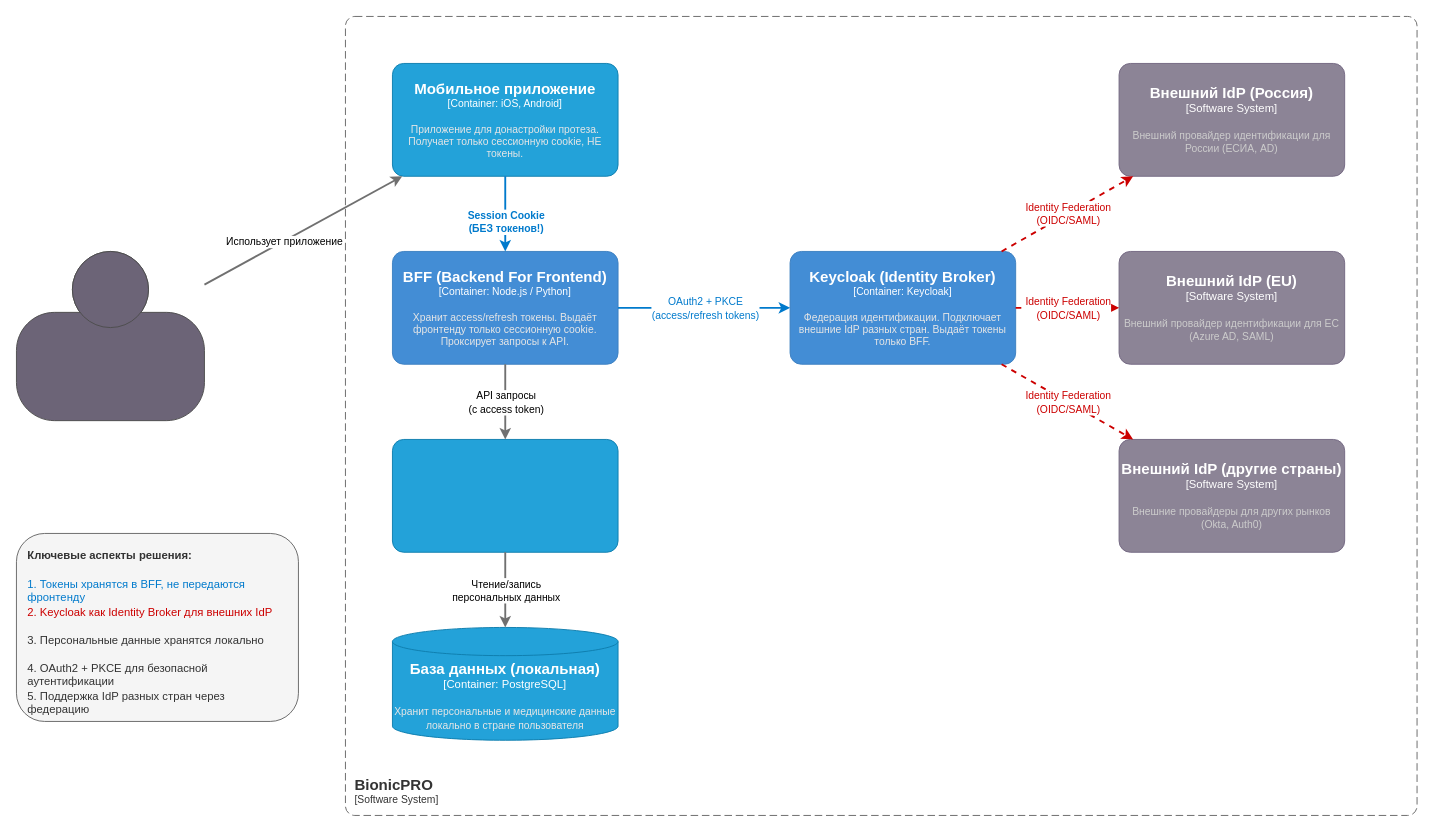
The diagram is 1434 pixels wide and 832 high, and some of its shapes have lost their labels. Here are the shapes that lost their labels. From the top down, the box of each, then its label:
(16, 251, 204, 421): Пилот протеза [Person] Пользователь бионического протеза
(392, 439, 618, 552): API [Container: SpringBoot / Python] Бизнес-логика. Валидирует токены от BFF.
